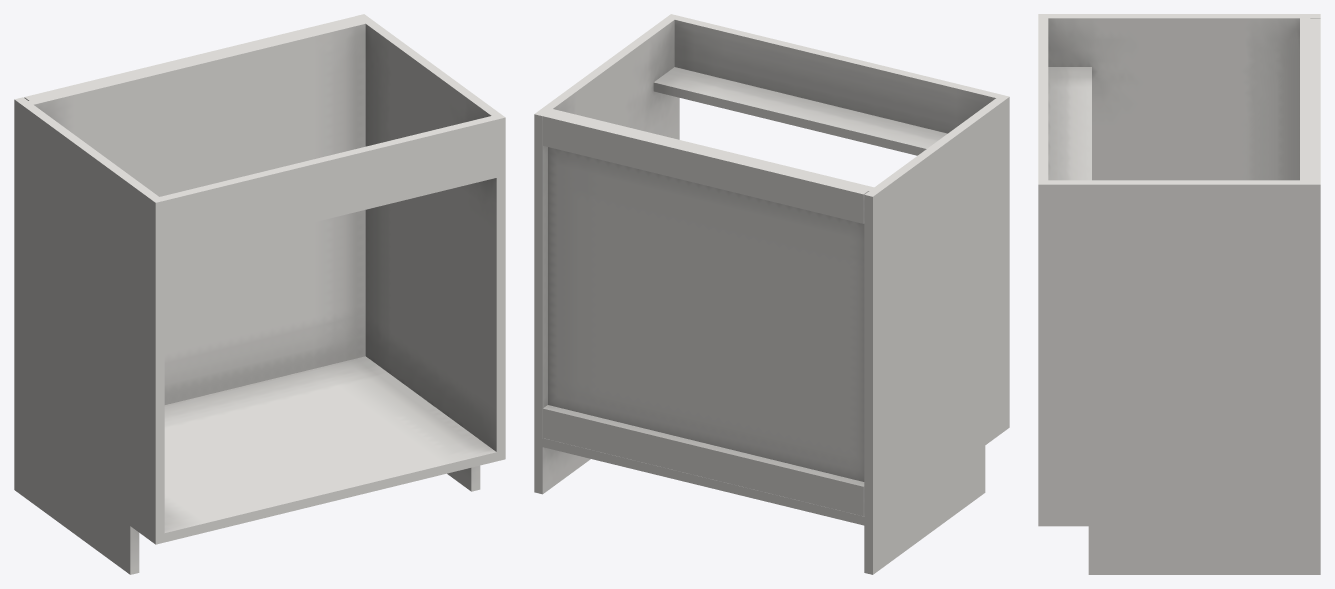
The model's file is 2-door-vanity-sink-base-doors-off.glb.
The picture shows the model from 3 angles, left to right: view 1: azimuth 30°, elevation 25°; view 2: azimuth 150°, elevation 25°; view 3: azimuth 270°, elevation 25°; orthographic projection. The views are drawn at different scales.
Parts seen in each view (by area): view 1: part_0; view 2: part_0; view 3: part_0.
Boxes of the visible parts, x1,y1,x2,y2 form: part_0: [14, 14, 505, 574]; part_0: [534, 14, 1009, 574]; part_0: [1038, 14, 1320, 574].
Bounding box in the file's own units: 0.762 × 0.8128 × 0.5334.
1 material, 1 textured.
